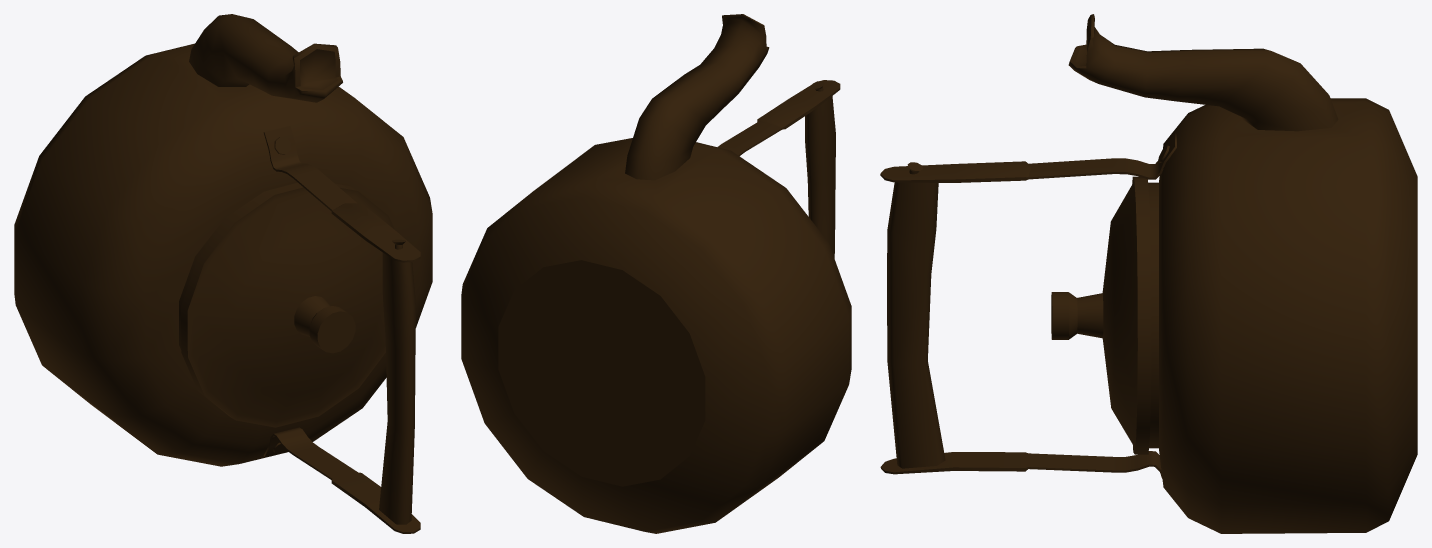
3 renders of one model, left to right at view 1: azimuth 30°, elevation 25°; view 2: azimuth 150°, elevation 25°; view 3: azimuth 270°, elevation 25°, orthographic. The views are drawn at different scales.
Bounding box in the file's own units: 0.7955 × 1 × 0.9859.
